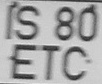0: (77, 7, 99, 44)
8: (54, 5, 74, 41)
C: (63, 45, 87, 82)
E: (11, 44, 39, 80)
I: (2, 3, 14, 42)
S: (16, 5, 41, 41)
T: (41, 44, 60, 82)
